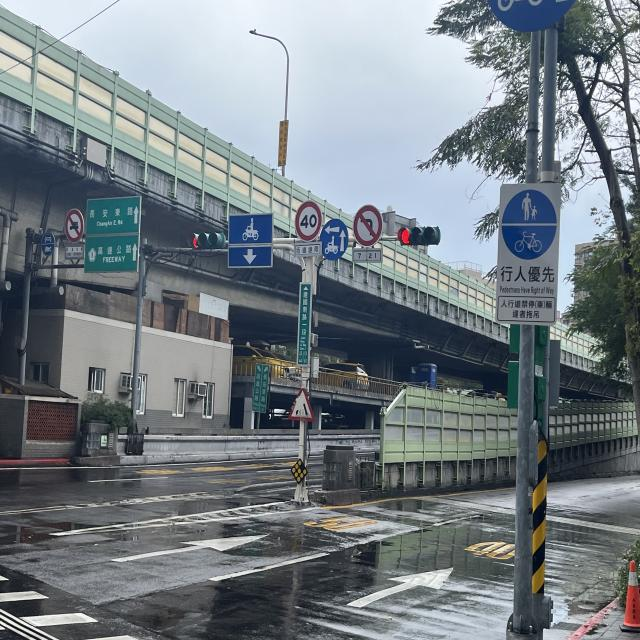red light: (397, 226, 439, 247), (188, 230, 225, 250)
